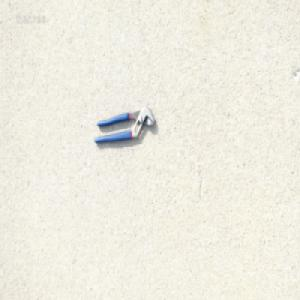Pliers: (92, 104, 155, 145)
